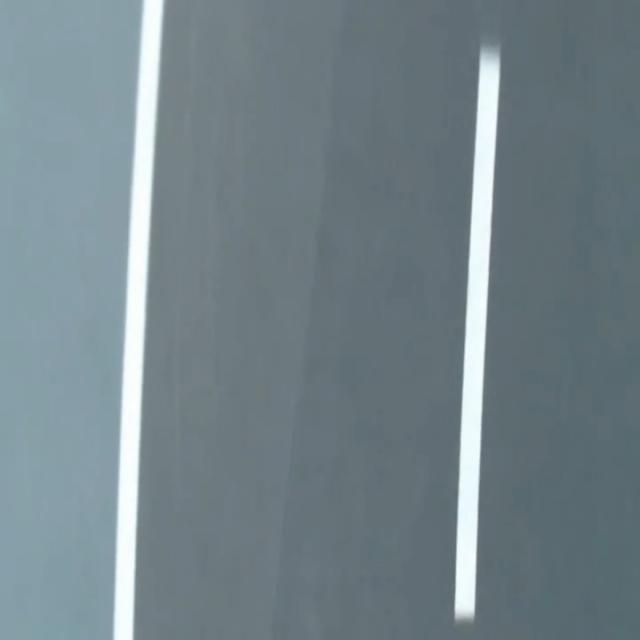center: (454, 45, 500, 621)
left: (113, 0, 164, 639)
